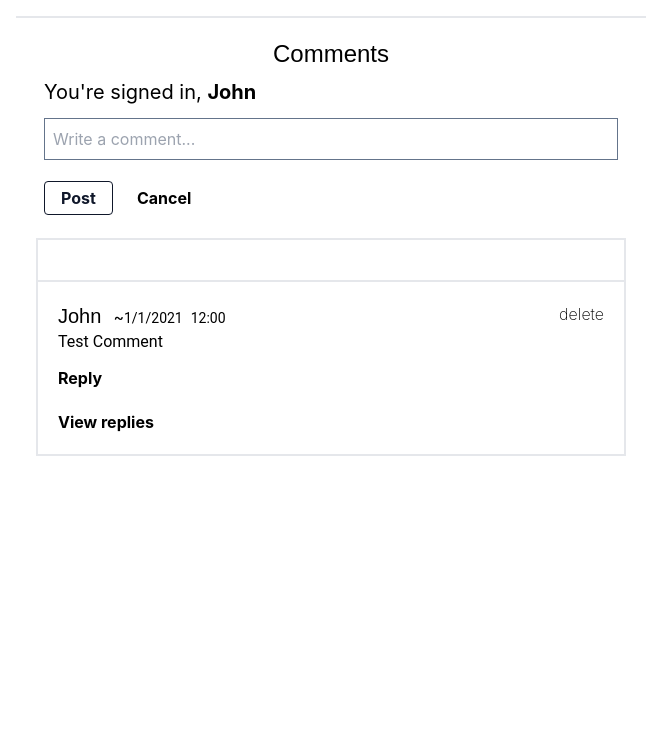
Test: comment section › replies › renders reply form when reply button on reply is clicked
This screenshot has width=663, height=744.
Step 1. Click the button "View replies" → coordinates (106, 422), box [58, 410, 154, 434]
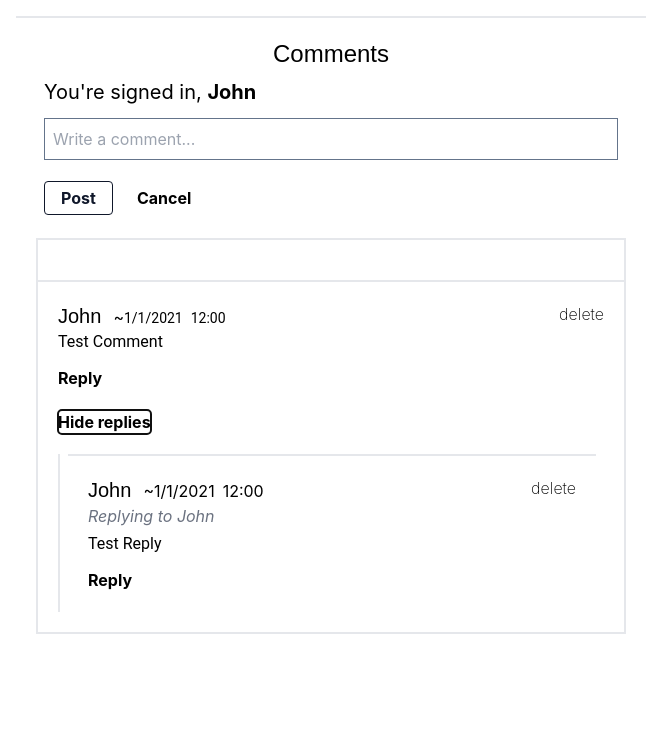
Step 2. Click the button with test id "reply-to-reply-button" → coordinates (110, 580), box [88, 568, 132, 592]
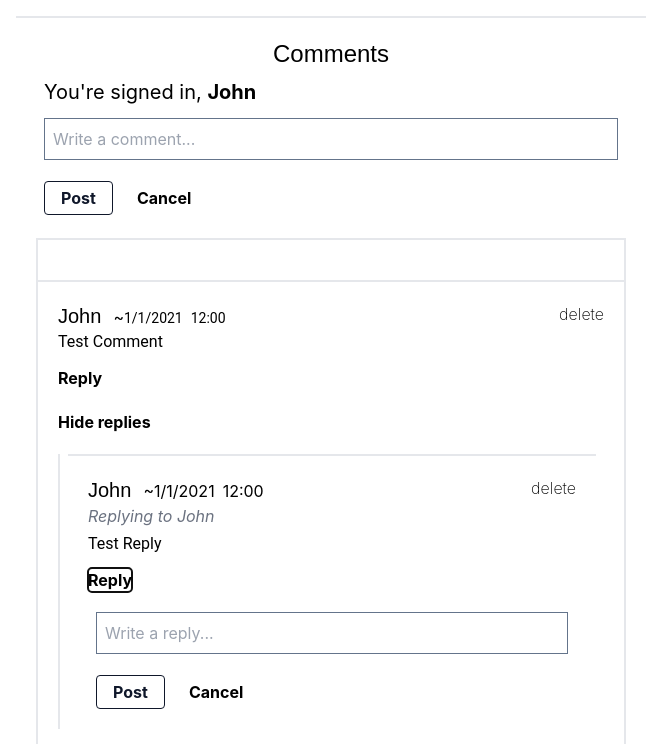
Result: the text box with placeholder "Write a reply..." is shown at [96, 612, 568, 654]
